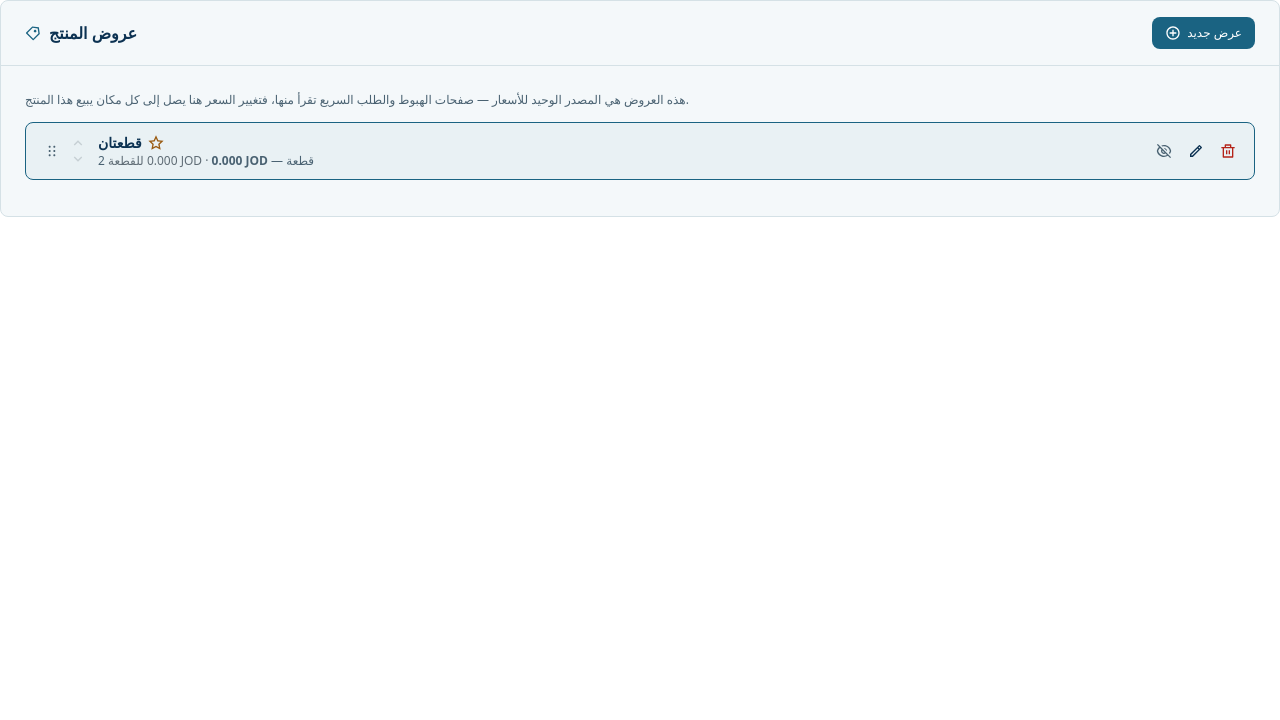
Test: PATCH /api/offers/[id] — an edit, at the real door › opens on the STORED figures, including a stored zero
Click the button titled "تعديل" at (1196, 150), box [1182,136,1210,164]
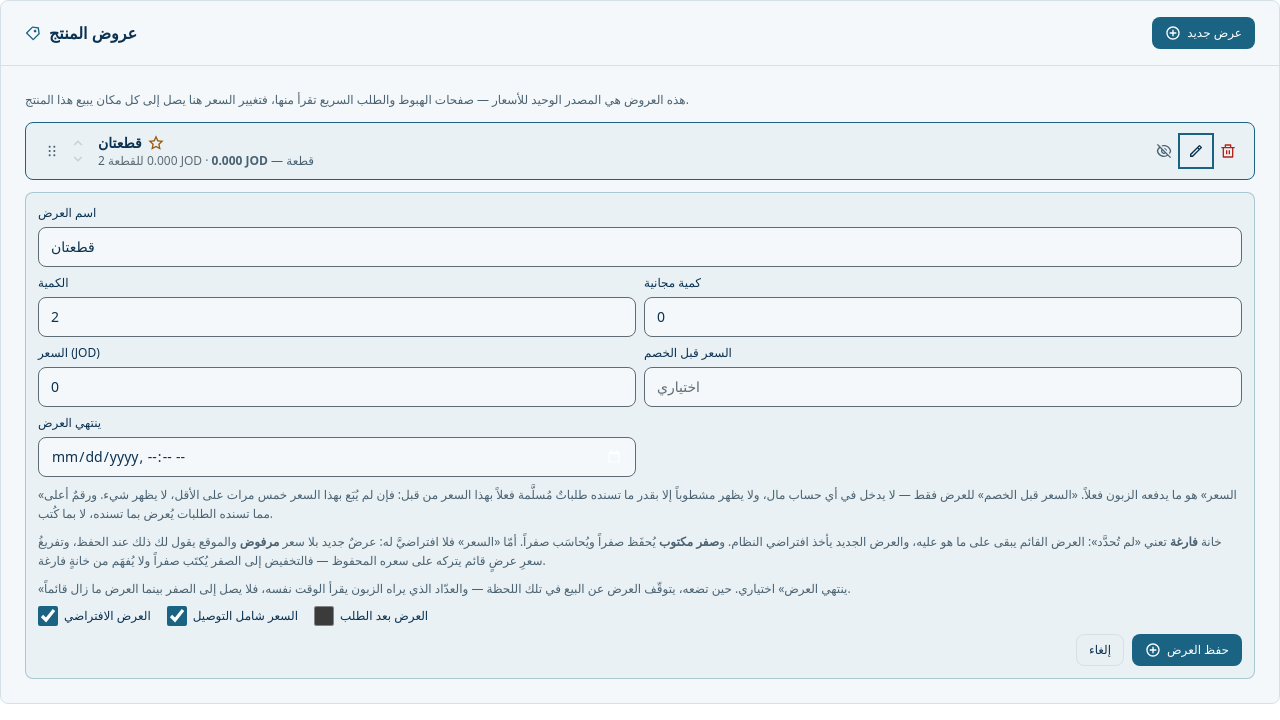
Check: the number field labelled "الكمية" holds "2", box [38,296,636,336]
Check: the number field labelled "كمية مجانية" holds "0", box [644,296,1242,336]
Check: the number field labelled "السعر (JOD)" holds "0", box [38,366,636,406]
